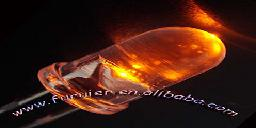LED: (35, 25, 227, 116)
